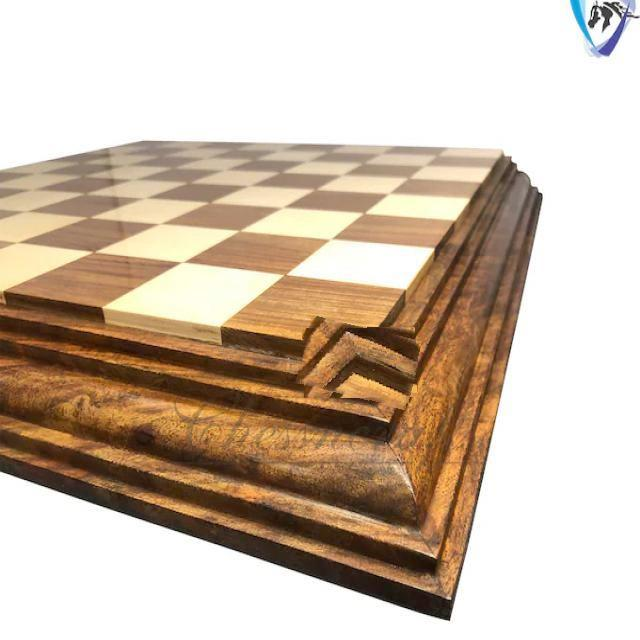chess-table-corners: (299, 322, 418, 404)
